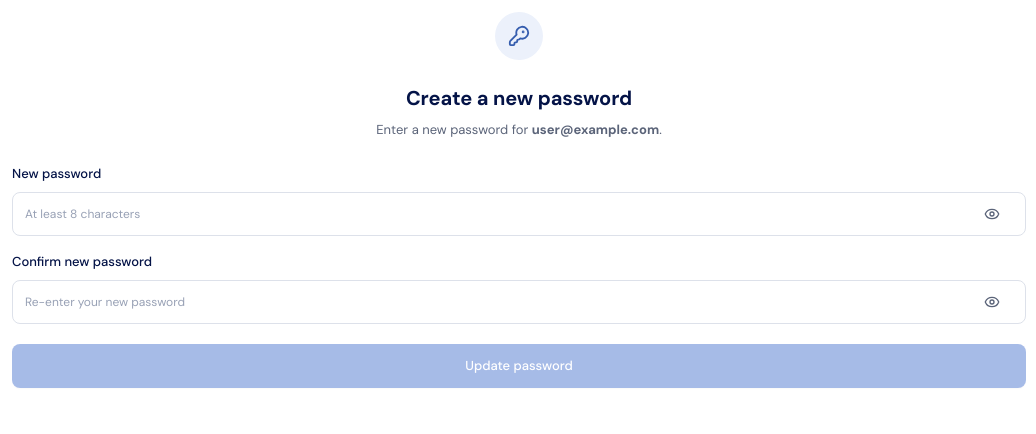
Test: ResetPasswordPage › keeps the successful reset state when only the confirmation email fails
The width and height of the screenshot is (1036, 434).
expect the text "user@example.com" is shown: met, box [532,121,659,138]
Type "StrongPass1!" into the password field labelled "New password" at (519, 214), box [12,192,1026,236]
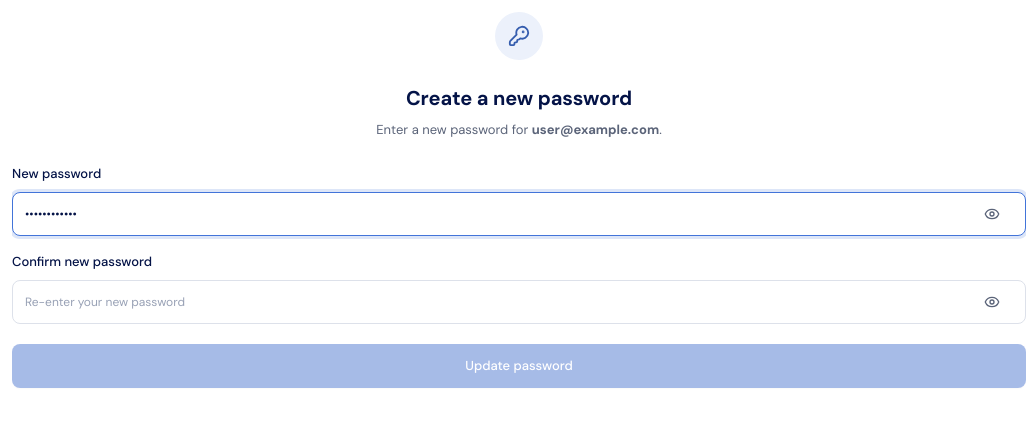
Type "StrongPass1!" into the password field labelled "Confirm new password" at (519, 302), box [12,280,1026,324]
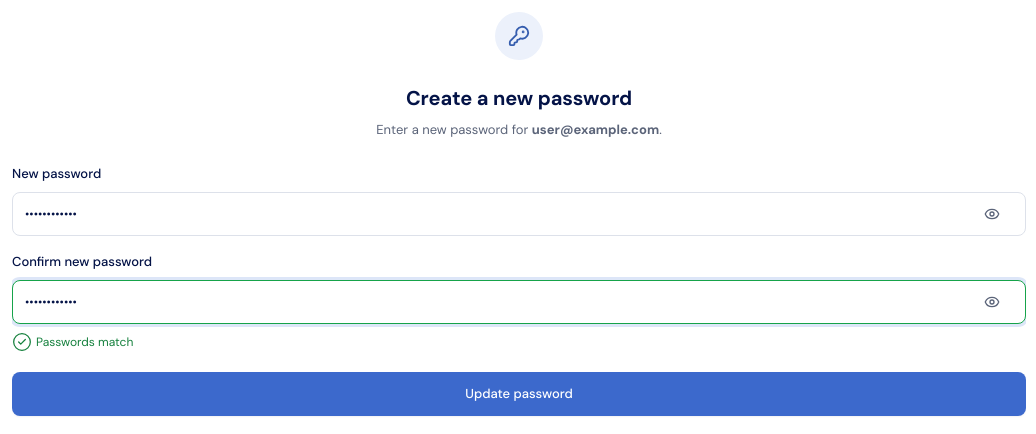
Click the button "Update password" at (519, 394), box [12,372,1026,416]
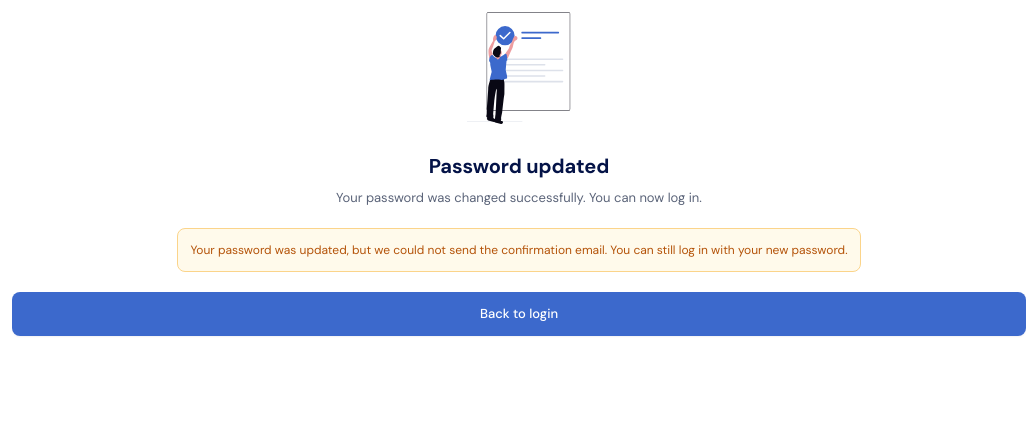
expect the heading "Password updated" is shown: met, box [429,153,609,179]
expect the message shows "Your password was updated, but we could not send the confirmation email.": met, box [190,242,848,258]
